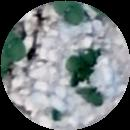Basil: (63, 48, 97, 73), (75, 82, 106, 106), (59, 0, 87, 26), (1, 42, 27, 67)
